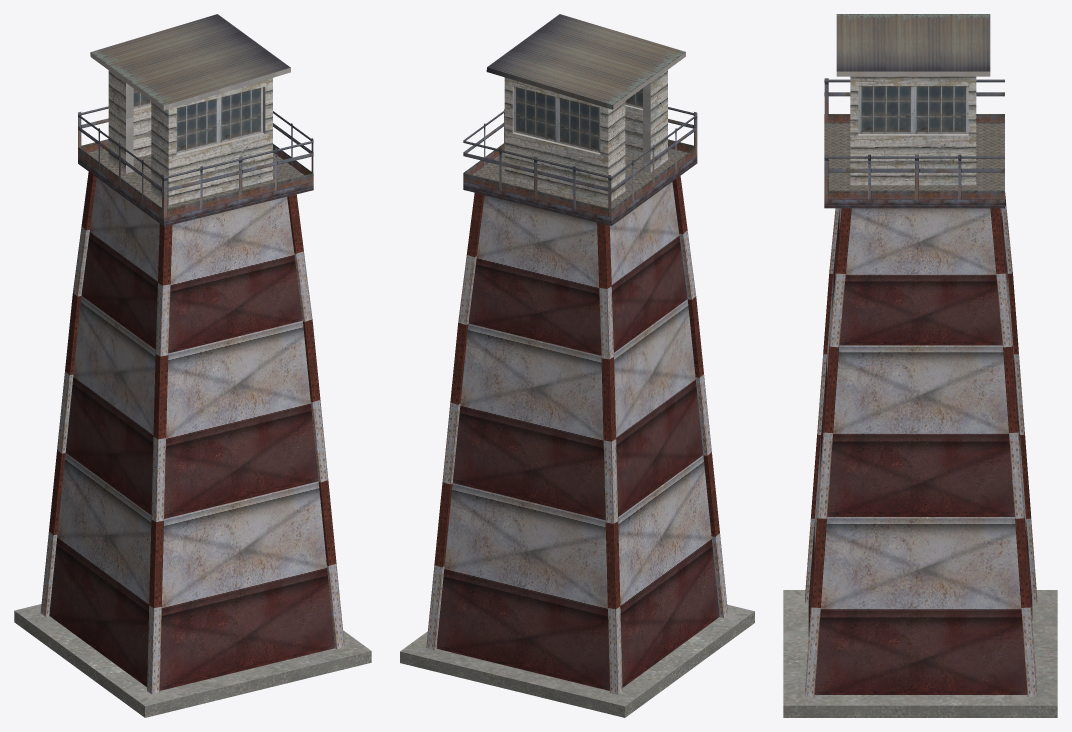
The model's file is des_bycontowr.obj.
3 renders of one model, left to right at view 1: azimuth 30°, elevation 25°; view 2: azimuth 150°, elevation 25°; view 3: azimuth 270°, elevation 25°, orthographic. The views are drawn at different scales.
Parts seen in each view (by area): view 1: des_bycontowr; view 2: des_bycontowr; view 3: des_bycontowr.
Boxes of the visible parts, x1,y1,x2,y2 form: des_bycontowr: [14, 14, 371, 717]; des_bycontowr: [400, 14, 754, 717]; des_bycontowr: [783, 14, 1057, 717].
Size of the model in its own units: 5 by 12.44 by 5.
9 materials, 9 textured.
